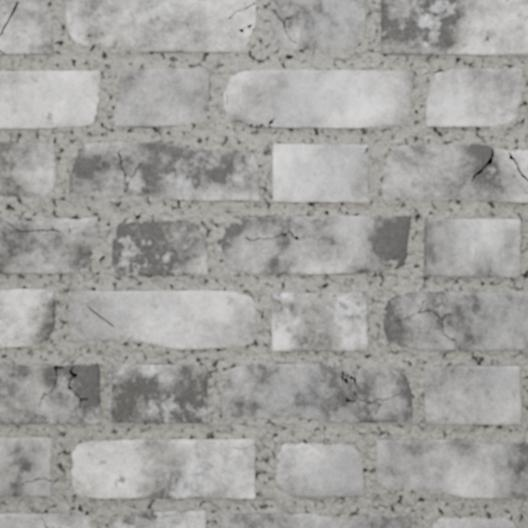brick: (69, 142, 259, 200), (224, 70, 413, 127), (222, 364, 411, 421), (72, 439, 254, 498), (222, 216, 409, 273), (69, 291, 255, 348), (66, 0, 255, 52), (376, 439, 527, 497), (382, 144, 527, 202), (384, 292, 527, 349), (381, 0, 527, 55), (0, 365, 99, 423), (0, 71, 100, 128), (424, 366, 520, 424), (272, 292, 367, 350), (0, 217, 98, 273), (111, 365, 207, 422), (424, 219, 520, 276), (426, 69, 521, 126), (273, 144, 367, 201), (115, 69, 209, 126), (112, 220, 207, 275), (271, 0, 365, 50), (275, 443, 363, 496), (0, 289, 55, 346), (0, 143, 55, 197), (0, 437, 51, 495), (0, 0, 52, 54), (221, 513, 411, 527), (112, 510, 205, 527), (0, 513, 90, 527), (433, 517, 515, 527), (0, 0, 15, 28), (511, 150, 527, 175)
crack: (340, 370, 401, 415), (39, 365, 88, 409), (270, 8, 296, 43), (0, 0, 19, 36), (507, 151, 527, 182), (227, 1, 256, 20), (234, 116, 276, 128), (40, 516, 61, 527), (20, 477, 51, 484), (238, 22, 253, 33), (232, 443, 255, 450), (363, 146, 368, 154), (0, 49, 6, 54)
